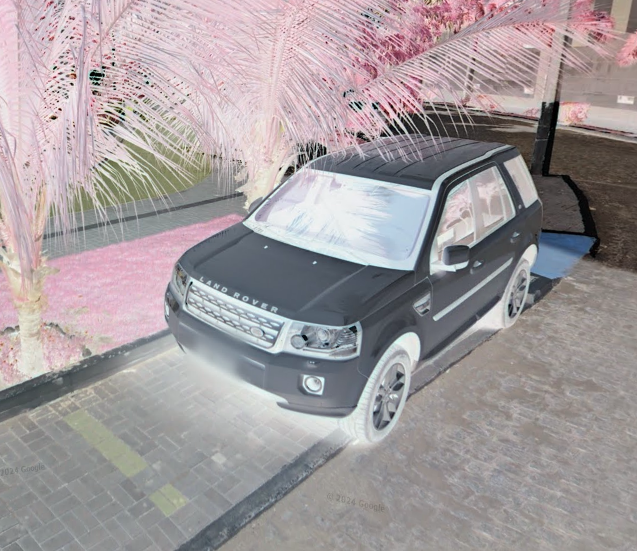car: (158, 128, 547, 452)
